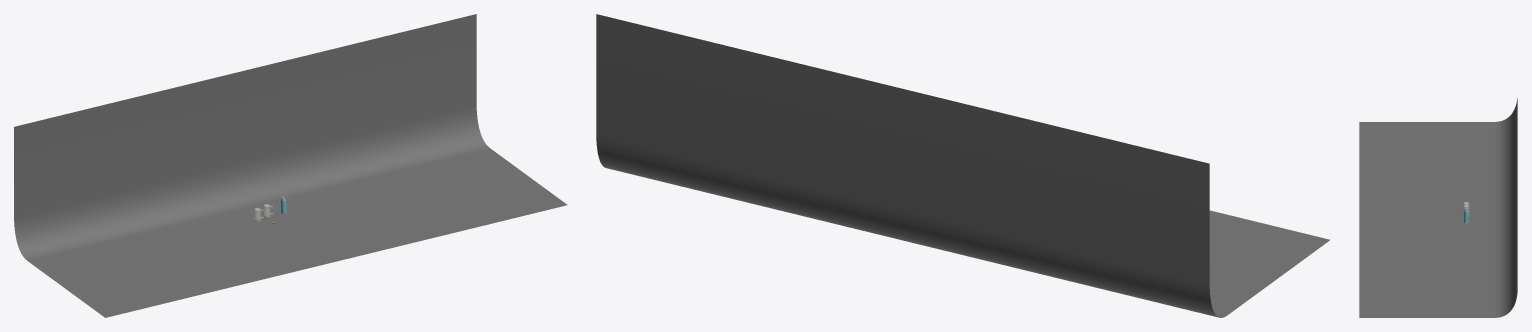
The picture shows the model from 3 angles, left to right: view 1: azimuth 30°, elevation 25°; view 2: azimuth 150°, elevation 25°; view 3: azimuth 270°, elevation 25°; orthographic projection. The views are drawn at different scales.
Visible parts, largest first — view 1: Plane; view 2: Plane; view 3: Plane.
Boxes of the visible parts, <box> form: Plane: <box>14,14,567,317</box>; Plane: <box>596,14,1330,317</box>; Plane: <box>1359,97,1517,317</box>.
Bounding box in the file's own units: 68.61 × 17.64 × 23.46.
6 materials, 2 textured.
